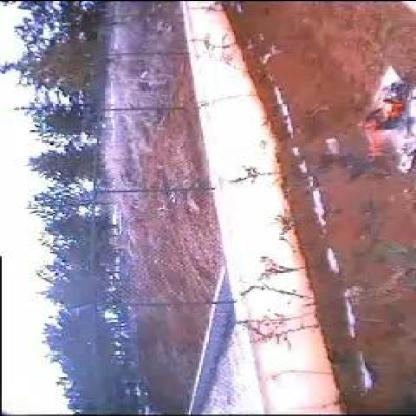-: (344, 152, 363, 173)
foggia-v2-map80-epoch100 - v1 4323: (384, 98, 406, 119)
